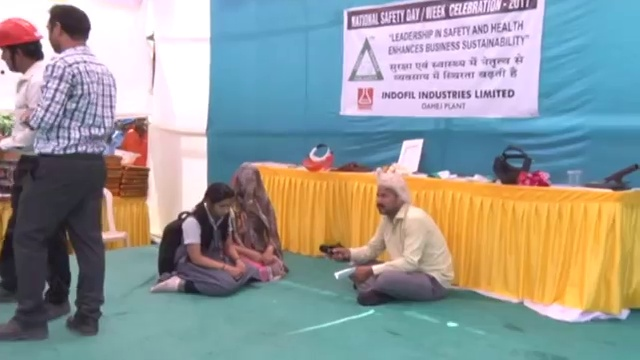helmet: (0, 19, 47, 49)
helmet_off: (37, 2, 92, 56), (367, 177, 411, 222), (231, 168, 268, 215), (201, 182, 233, 223)
helmet_on: (0, 19, 47, 77)
person: (0, 0, 117, 330), (0, 20, 53, 334), (335, 172, 452, 309), (156, 182, 258, 302), (218, 162, 286, 284), (116, 122, 147, 157)
